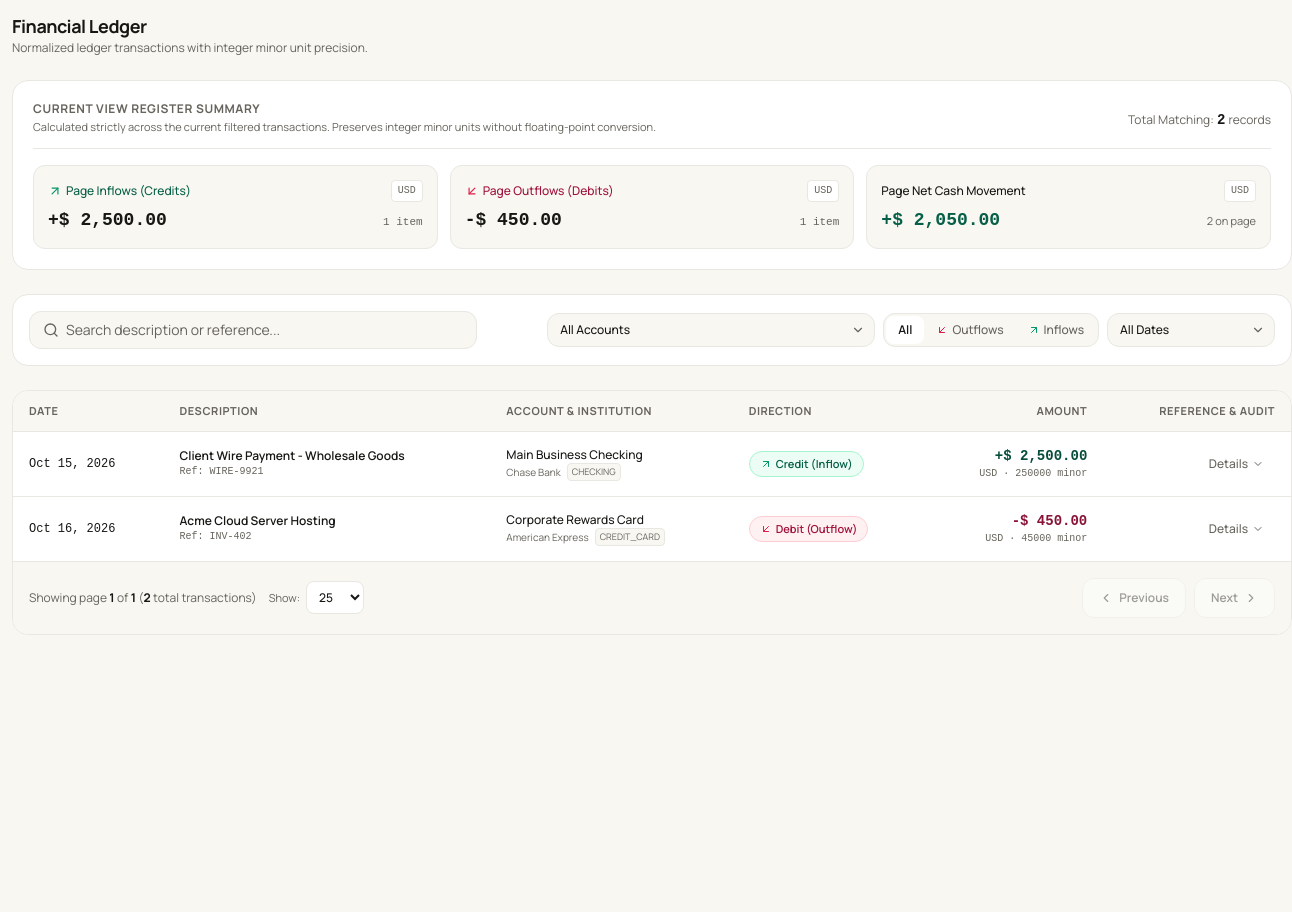
Scenario: MoneyLens Transactions Ledger Suite › expands audit details row when Details button is clicked
The image size is (1292, 912).
Expected: the text "Client Wire Payment - Wholesale Goods" is shown, x1=180 y1=446 x2=405 y2=464
Click the button with aria-label "Toggle audit details". click: (1236,464)
box: x1=1198 y1=450 x2=1275 y2=476
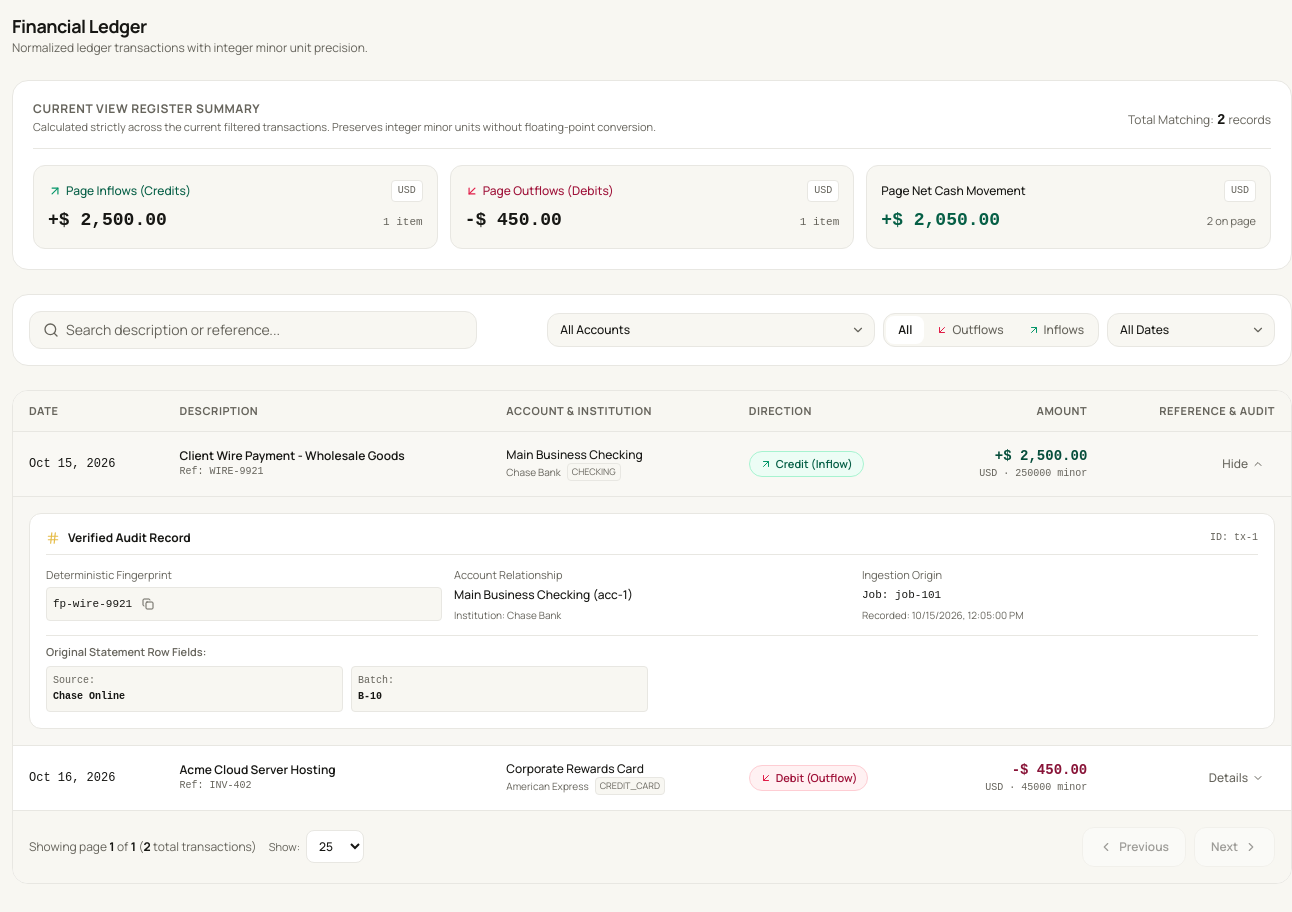
Expected: the text "Verified Audit Record" is shown, x1=68 y1=530 x2=191 y2=546
Expected: the text "fp-wire-9921" is shown, x1=53 y1=596 x2=132 y2=612
Expected: the text "Job: job-101" is shown, x1=862 y1=588 x2=941 y2=600
